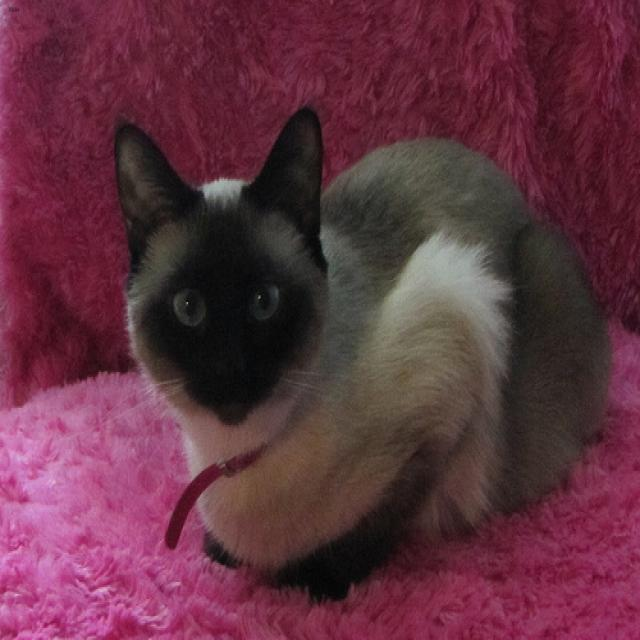Siamese: (106, 102, 336, 439)
